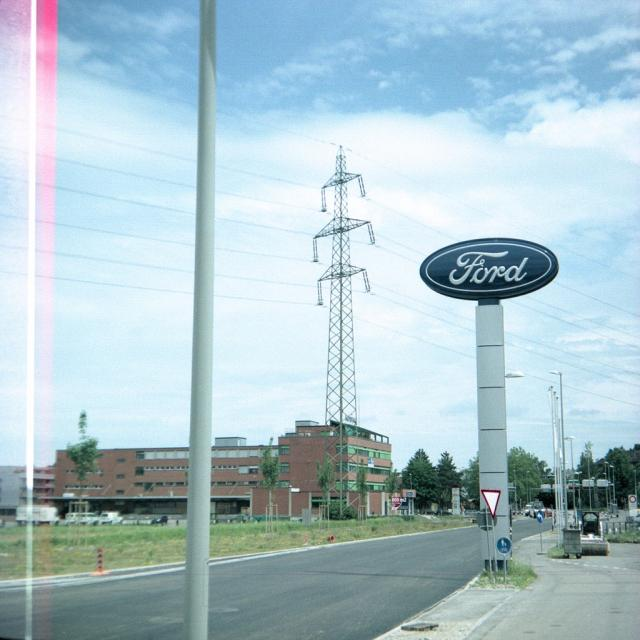ford: (420, 238, 562, 303)
